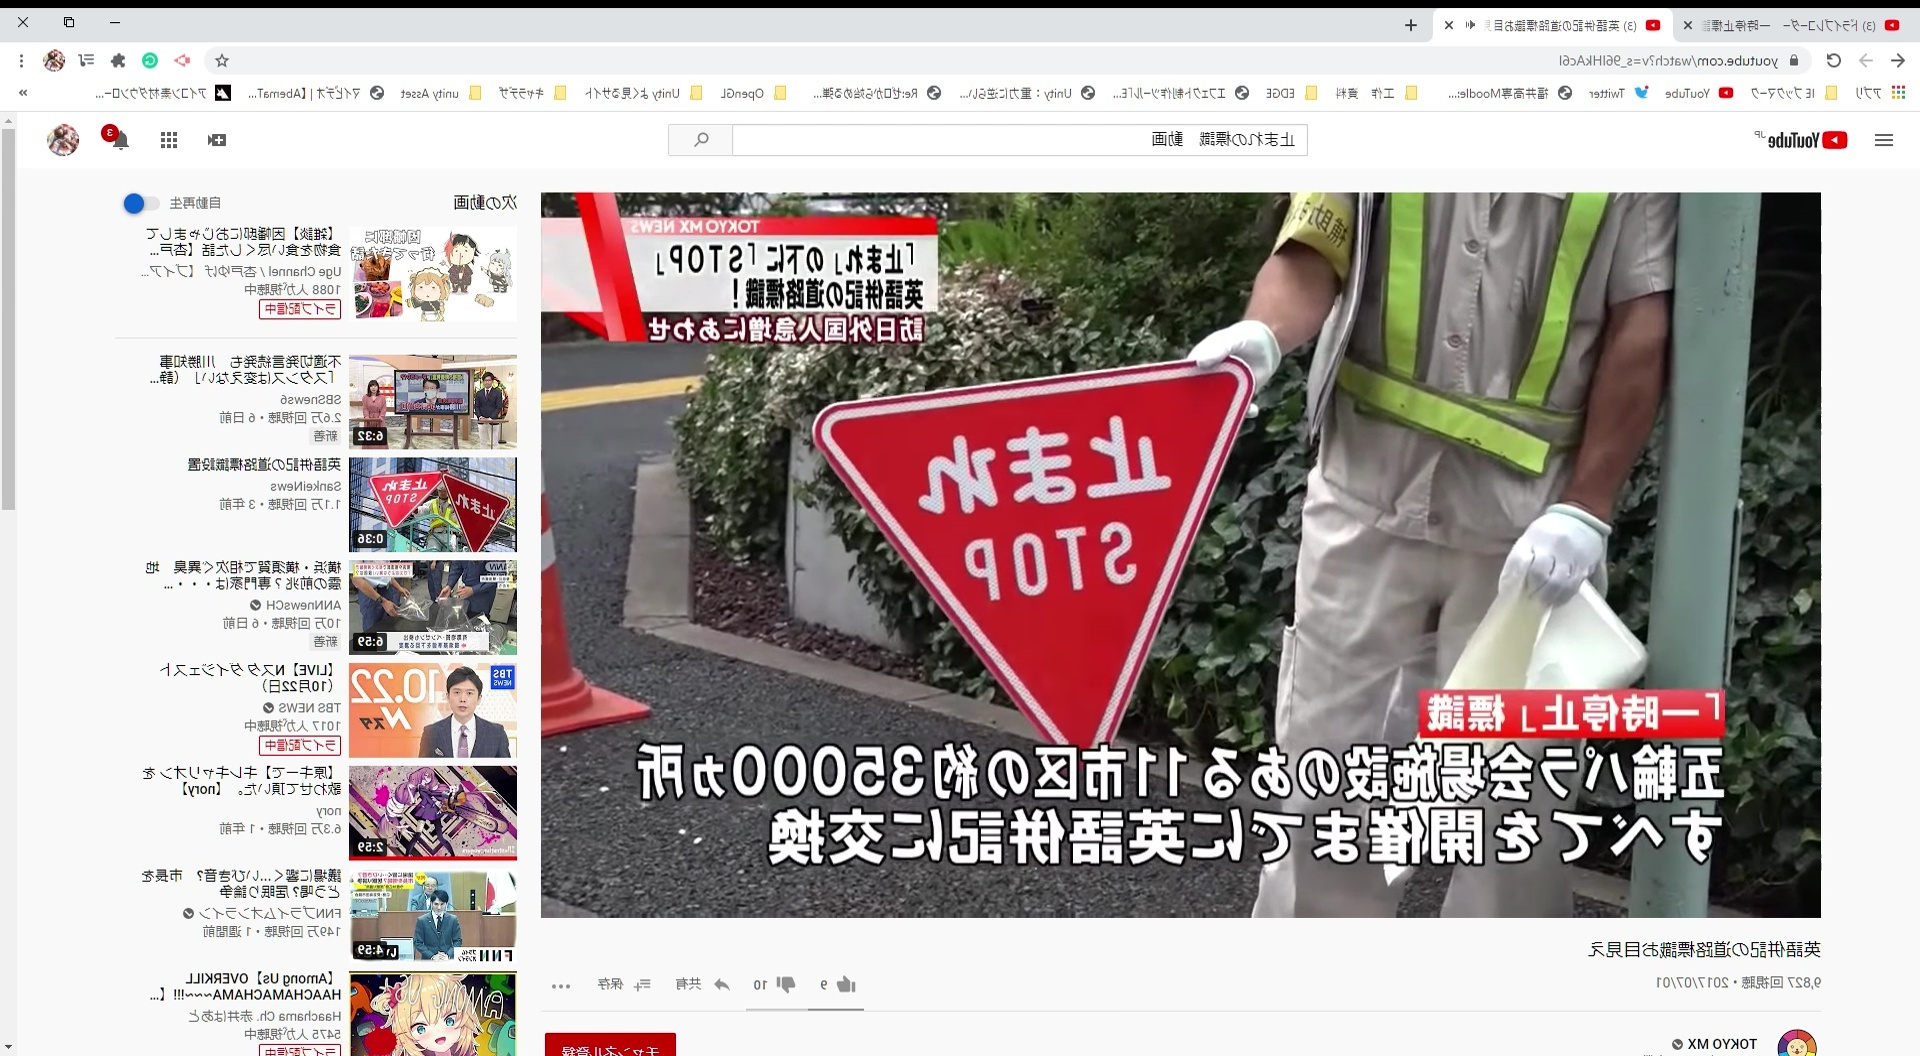Regulatory_sign_triangle: (793, 337, 1267, 778)
